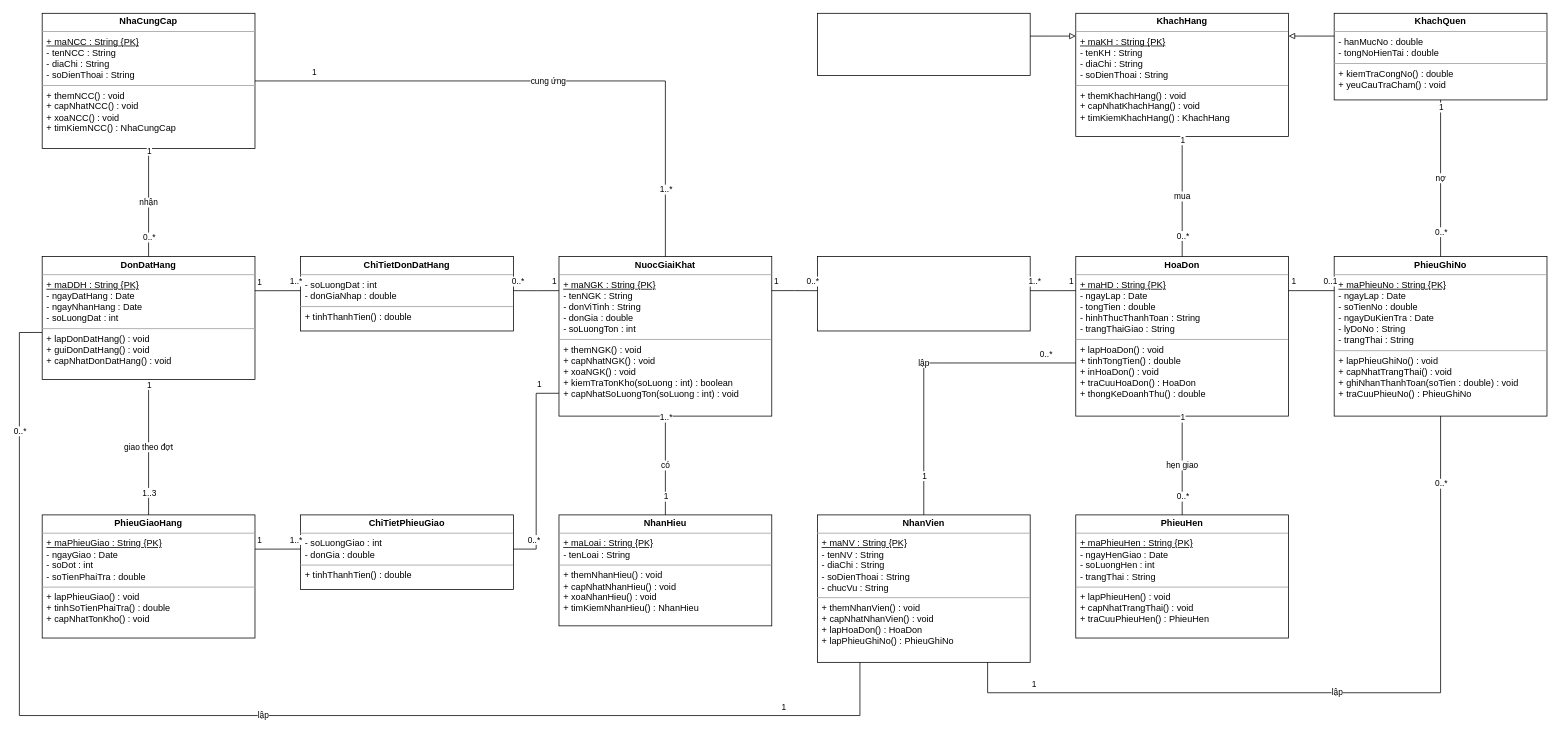
Image size: 1560x733. Some labels were removed from this diagram. The centre of each missing label's shape, as x and y in pixels:
"ChiTietHoaDon - soLuongMua : int - donGiaBan : double + tinhThanhTien() : double" belongs at pixel 923 293.
"KhachVangLai + thanhToanNgay() : void" belongs at pixel 923 44.
